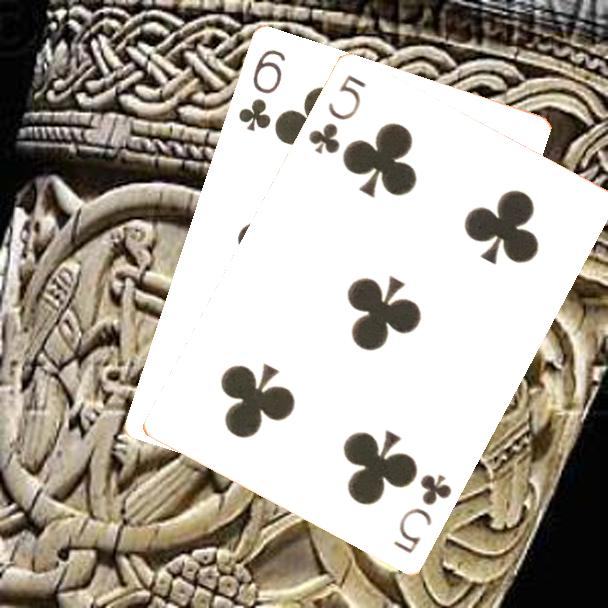c05: (390, 471, 455, 557), (305, 72, 370, 158)
c06: (235, 46, 289, 135)
